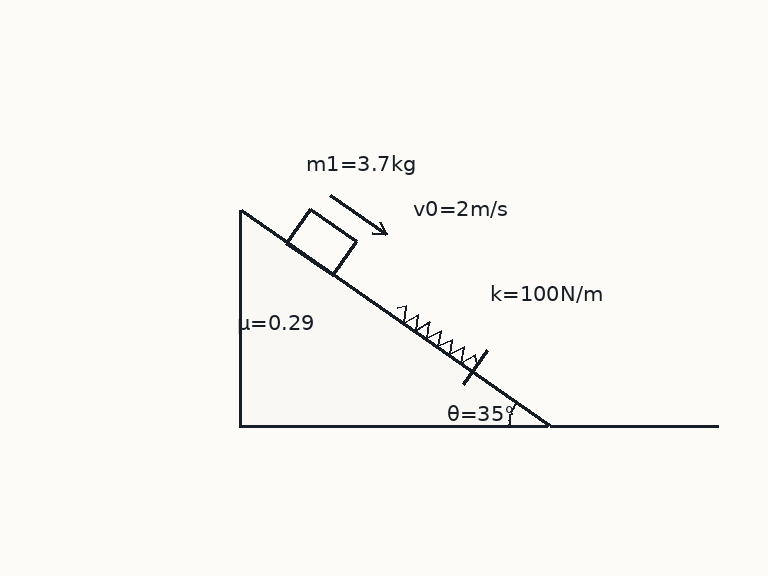block: (285, 207, 358, 277)
ramp: (238, 208, 551, 428)
spring: (395, 305, 479, 367)
